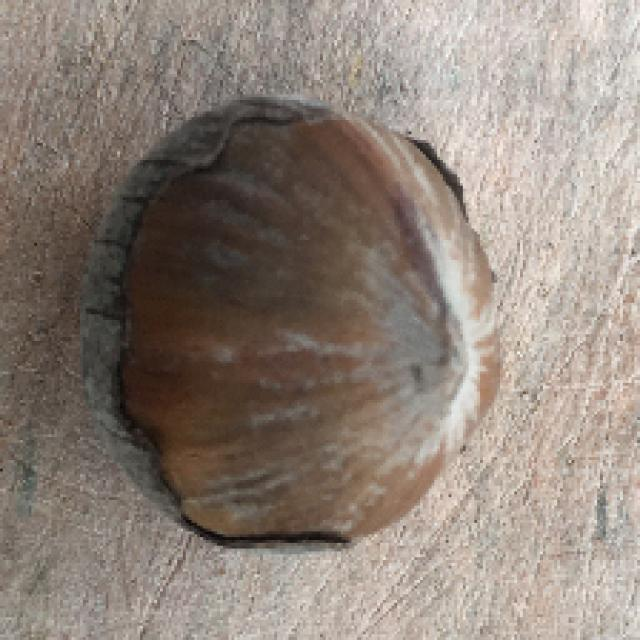damagedHazelnut: (84, 88, 508, 562)
